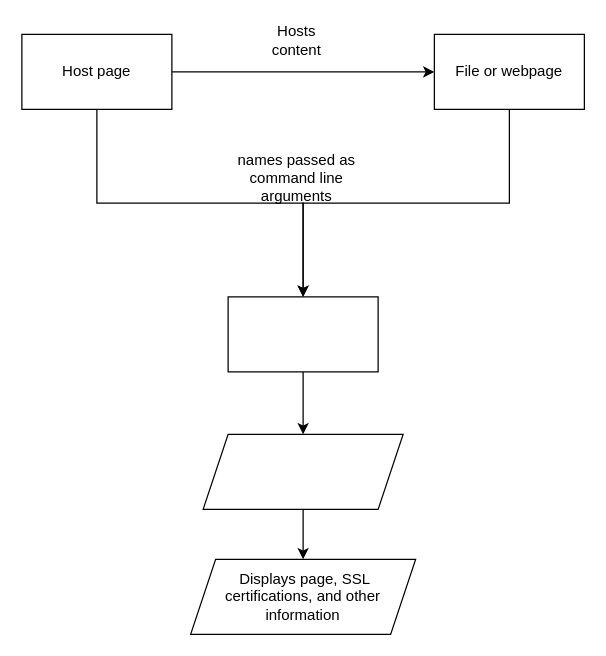
This 606x656 diagram has some shape labels left out. Here are the shapes that lost their labels. From the top down, the centre of each, then its label:
At point 302,334: "lab3f22.cpp and executable".
At point 302,471: "Contacts specified host and file via SSL".
